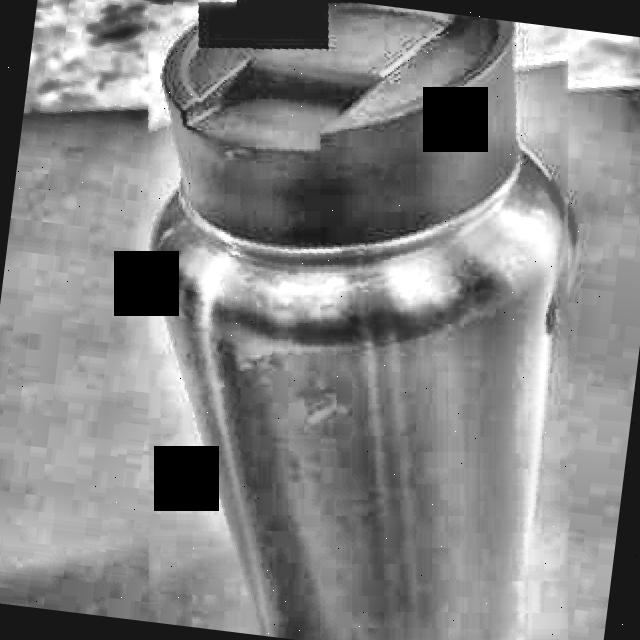bottle: (148, 3, 568, 640)
